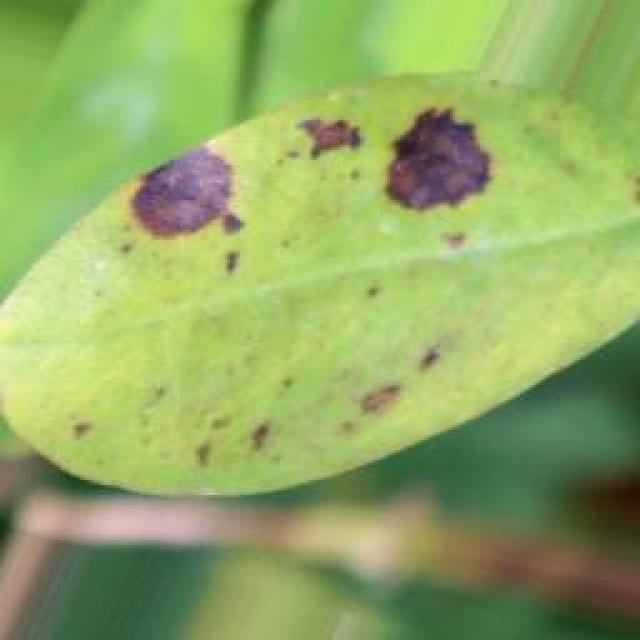Yellowish: (95, 64, 522, 488)
